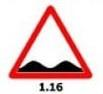road_sign: (6, 4, 95, 81)
